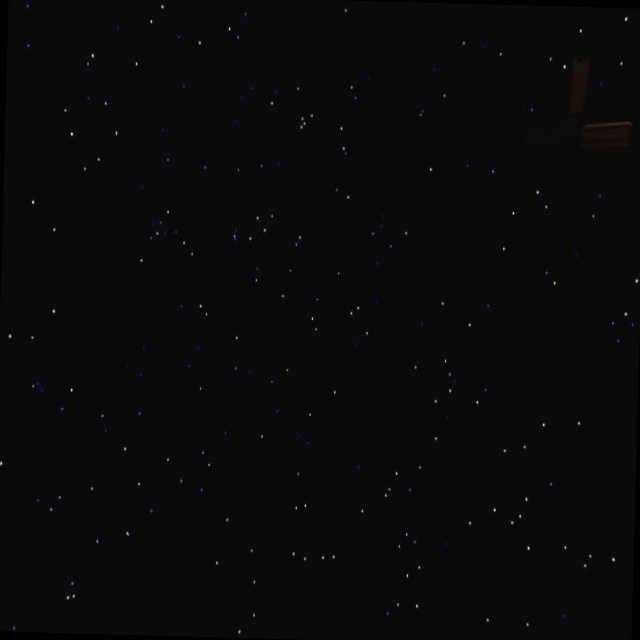medium_debris: (565, 50, 634, 161)
